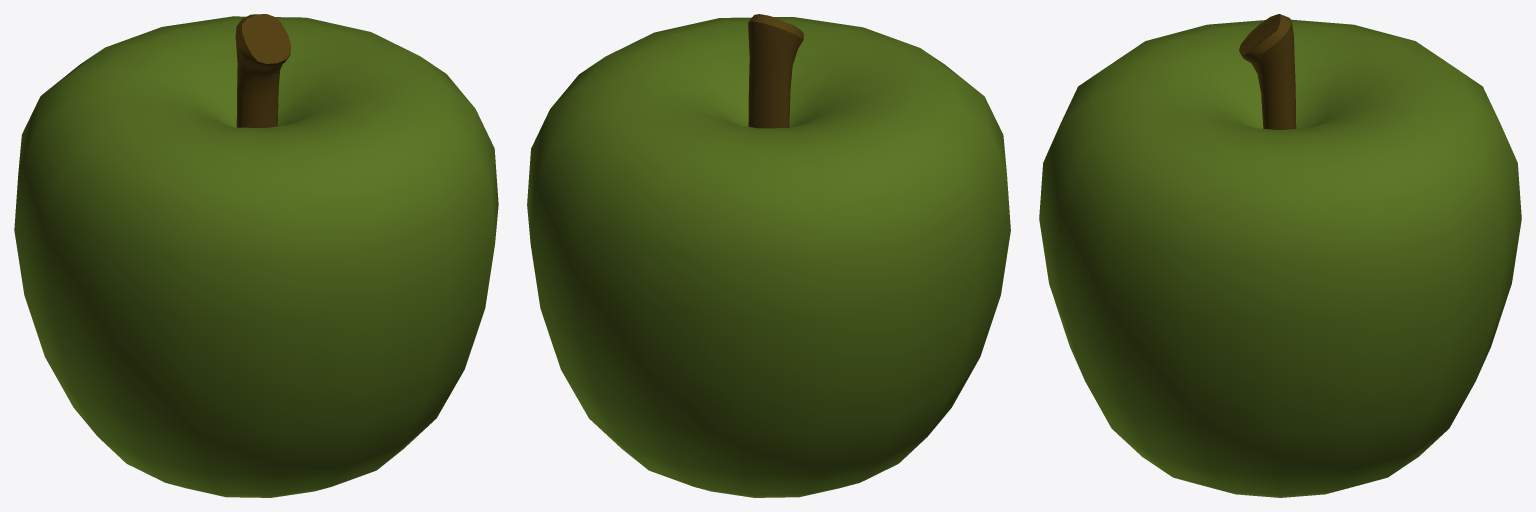
File: apple.fbx
The picture shows the model from 3 angles, left to right: view 1: azimuth 30°, elevation 25°; view 2: azimuth 150°, elevation 25°; view 3: azimuth 270°, elevation 25°; orthographic projection.
Parts seen in each view (by area): view 1: Apple; view 2: Apple; view 3: Apple.
Part boxes in pixels (x1=…): Apple: x1=14, y1=14, x2=498, y2=497; Apple: x1=527, y1=14, x2=1010, y2=497; Apple: x1=1039, y1=14, x2=1521, y2=497.
Size of the model in its own units: 10 by 9.99 by 10.
